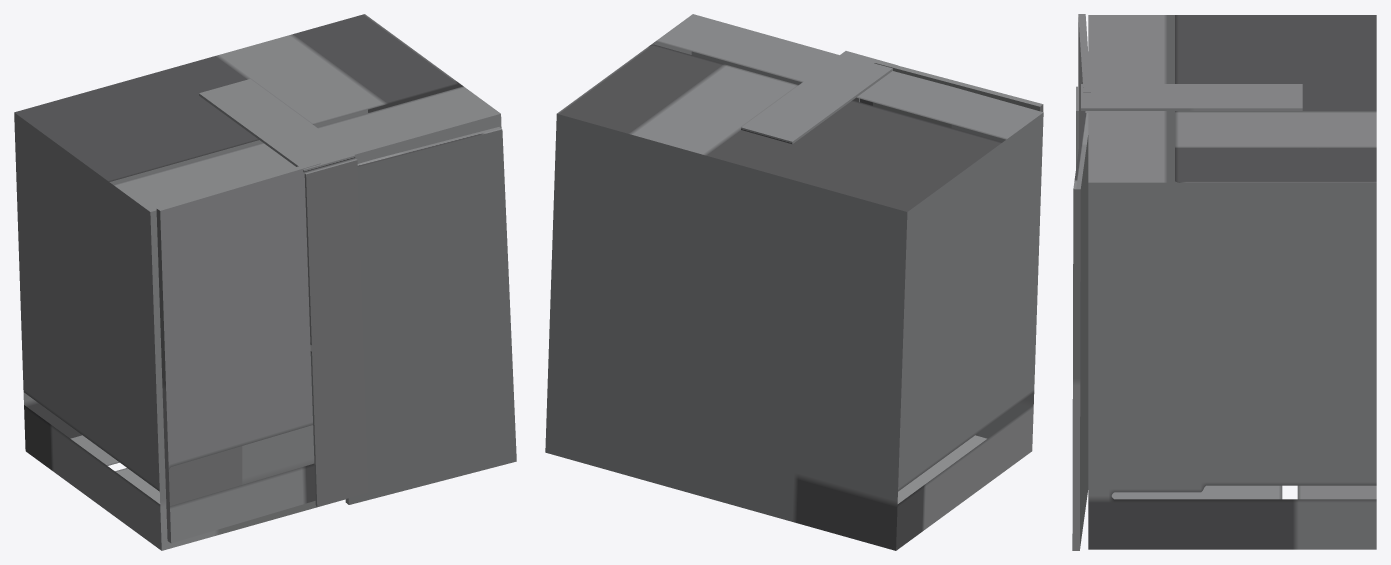
3 views of the same model, side by side, from view 1: azimuth 30°, elevation 25°; view 2: azimuth 150°, elevation 25°; view 3: azimuth 270°, elevation 25° (orthographic). The views are drawn at different scales.
Size of the model in its own units: 0.5985 by 0.5599 by 0.4117.
